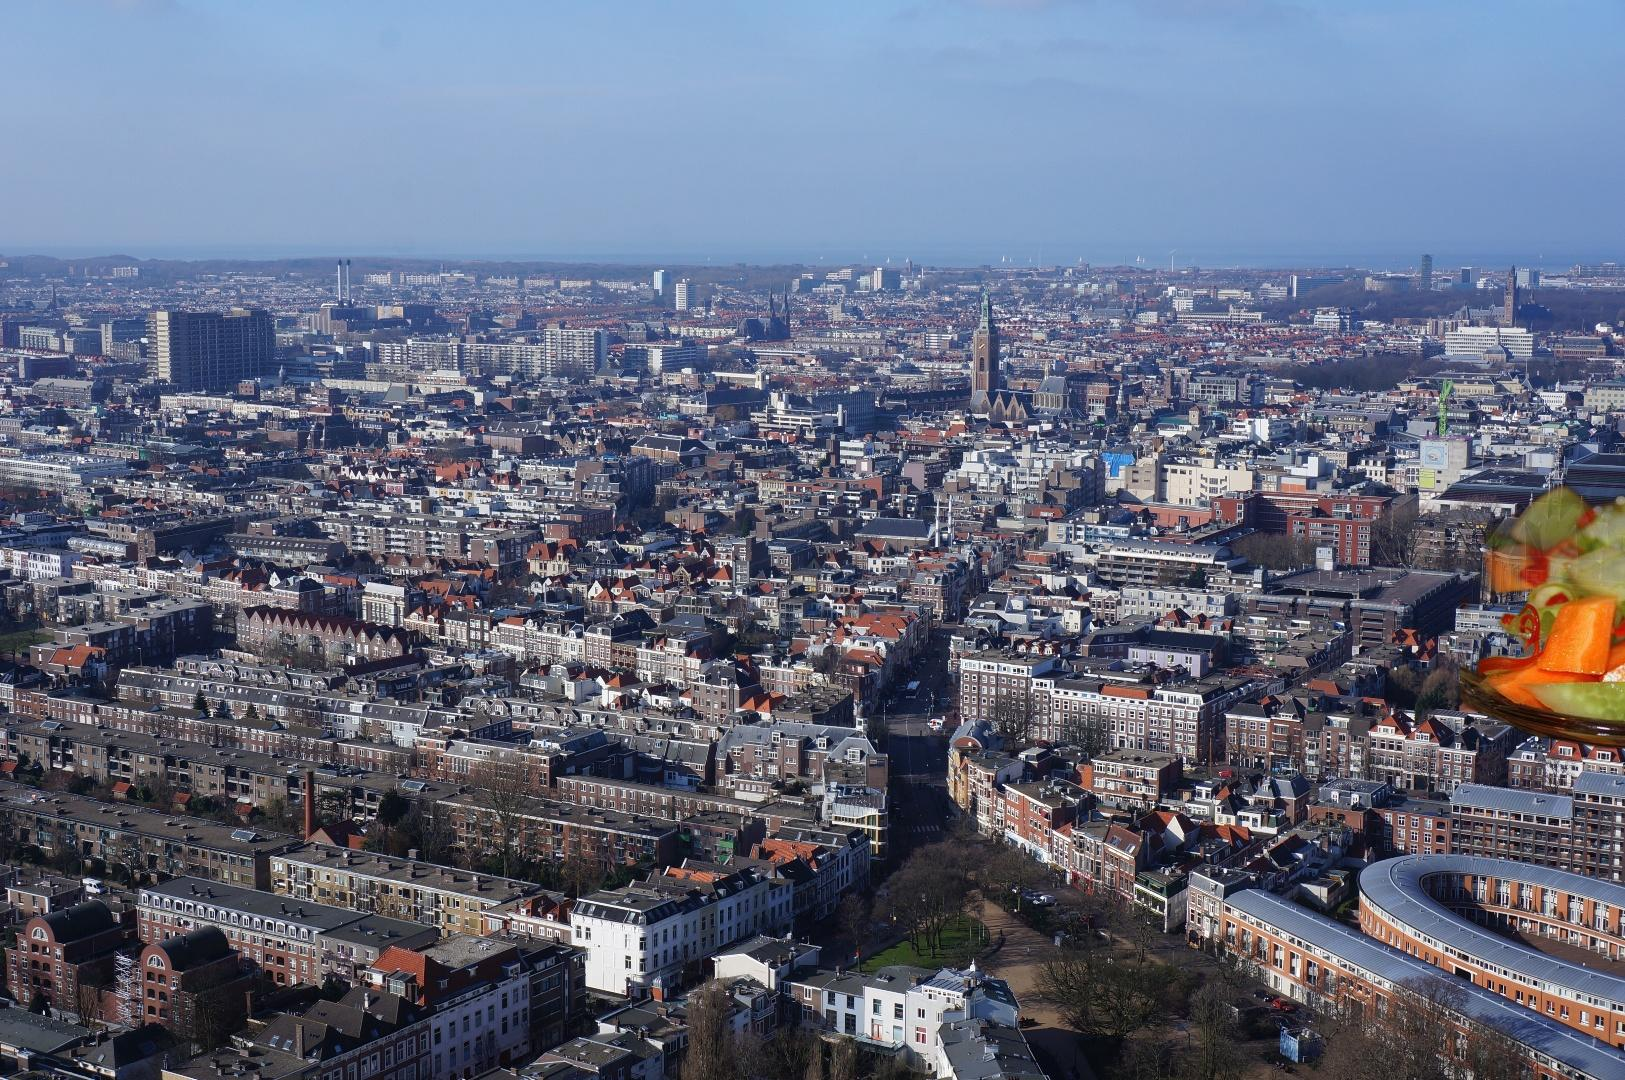biological: (1460, 456, 1625, 753)
metal-cans: (1525, 724, 1625, 1080)
trash: (1576, 611, 1625, 765)
